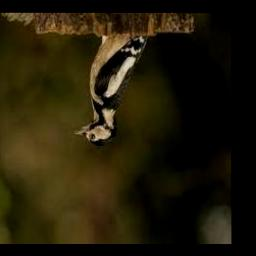Woodpecker: (72, 35, 148, 146)
